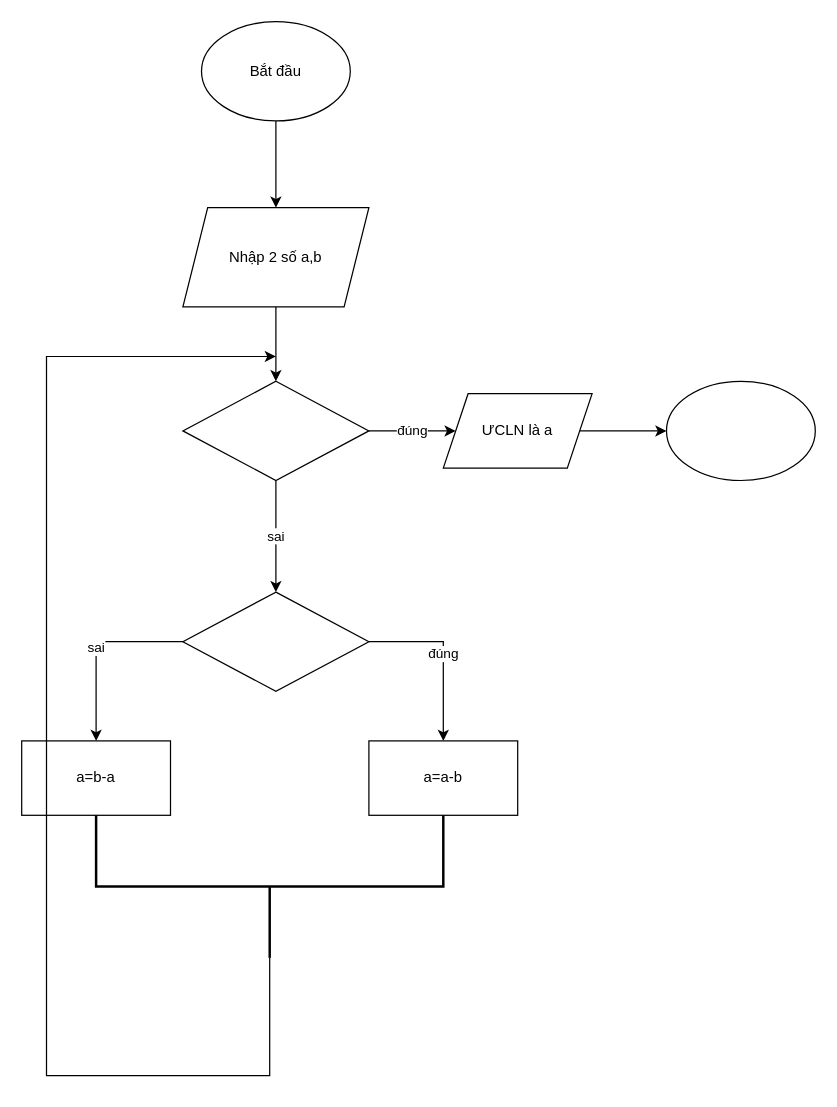
The diagram is 837 pixels wide and 1107 high, and some of its shapes have lost their labels. Each missing label, with the centre of its shape:
a=b: [275,430]
a>b: [275,641]
Kết thúc: [740,430]
